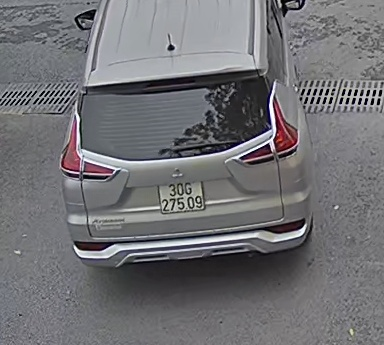vehicle plate: (152, 180, 207, 215)
